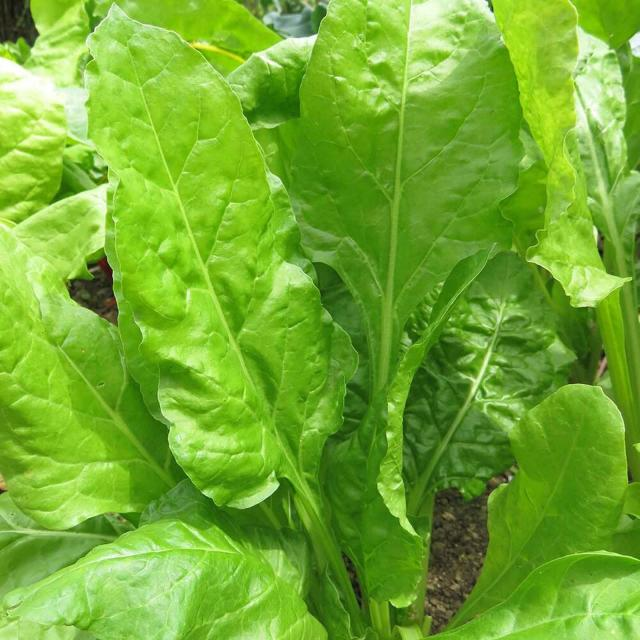spinach: (290, 0, 514, 265), (91, 17, 276, 292), (151, 295, 341, 500), (17, 529, 299, 640), (0, 309, 125, 514), (490, 388, 630, 547), (522, 553, 640, 639)
